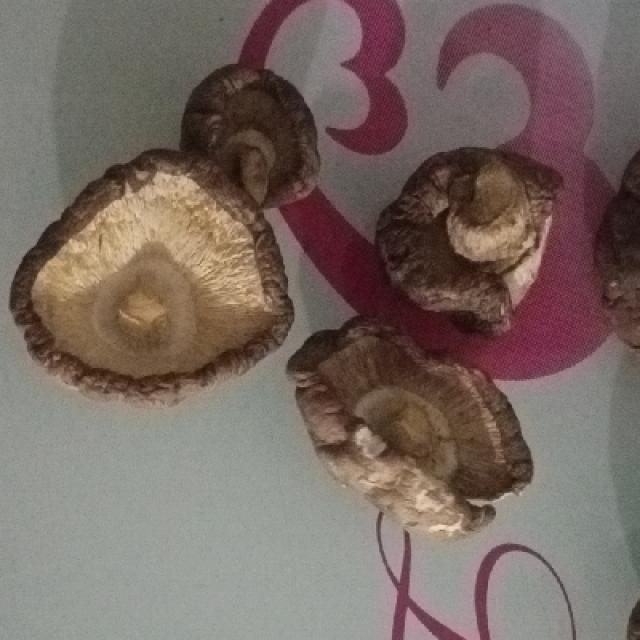Lentinus edodes: (9, 149, 295, 405), (285, 317, 536, 536), (380, 145, 569, 331), (175, 66, 322, 203)
